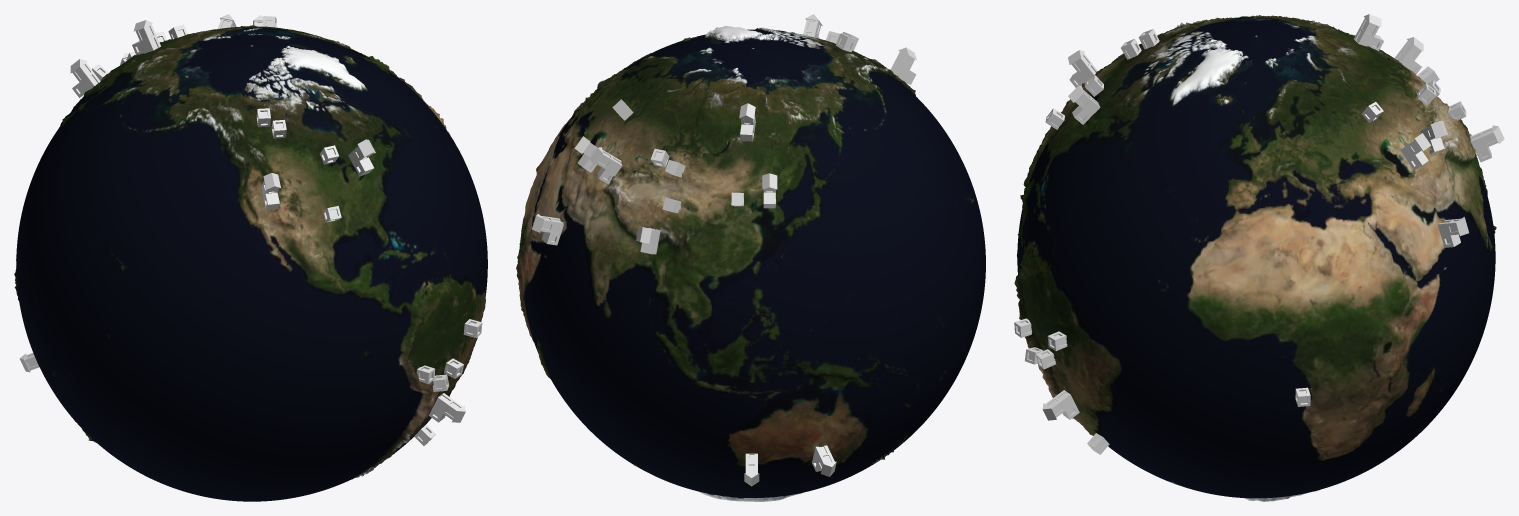
File: World.glb
The picture shows the model from 3 angles, left to right: view 1: azimuth 30°, elevation 25°; view 2: azimuth 150°, elevation 25°; view 3: azimuth 270°, elevation 25°; orthographic projection. The views are drawn at different scales.
Parts seen in each view (by area): view 1: Sphere; view 2: Sphere; view 3: Sphere.
Part boxes in pixels (bbox=[...]): Sphere: bbox=[14, 14, 487, 501]; Sphere: bbox=[516, 14, 985, 501]; Sphere: bbox=[1014, 14, 1504, 501].
Size of the model in its own units: 5.81 by 5.88 by 5.86.
Materials: 2 (1 with a texture image).
